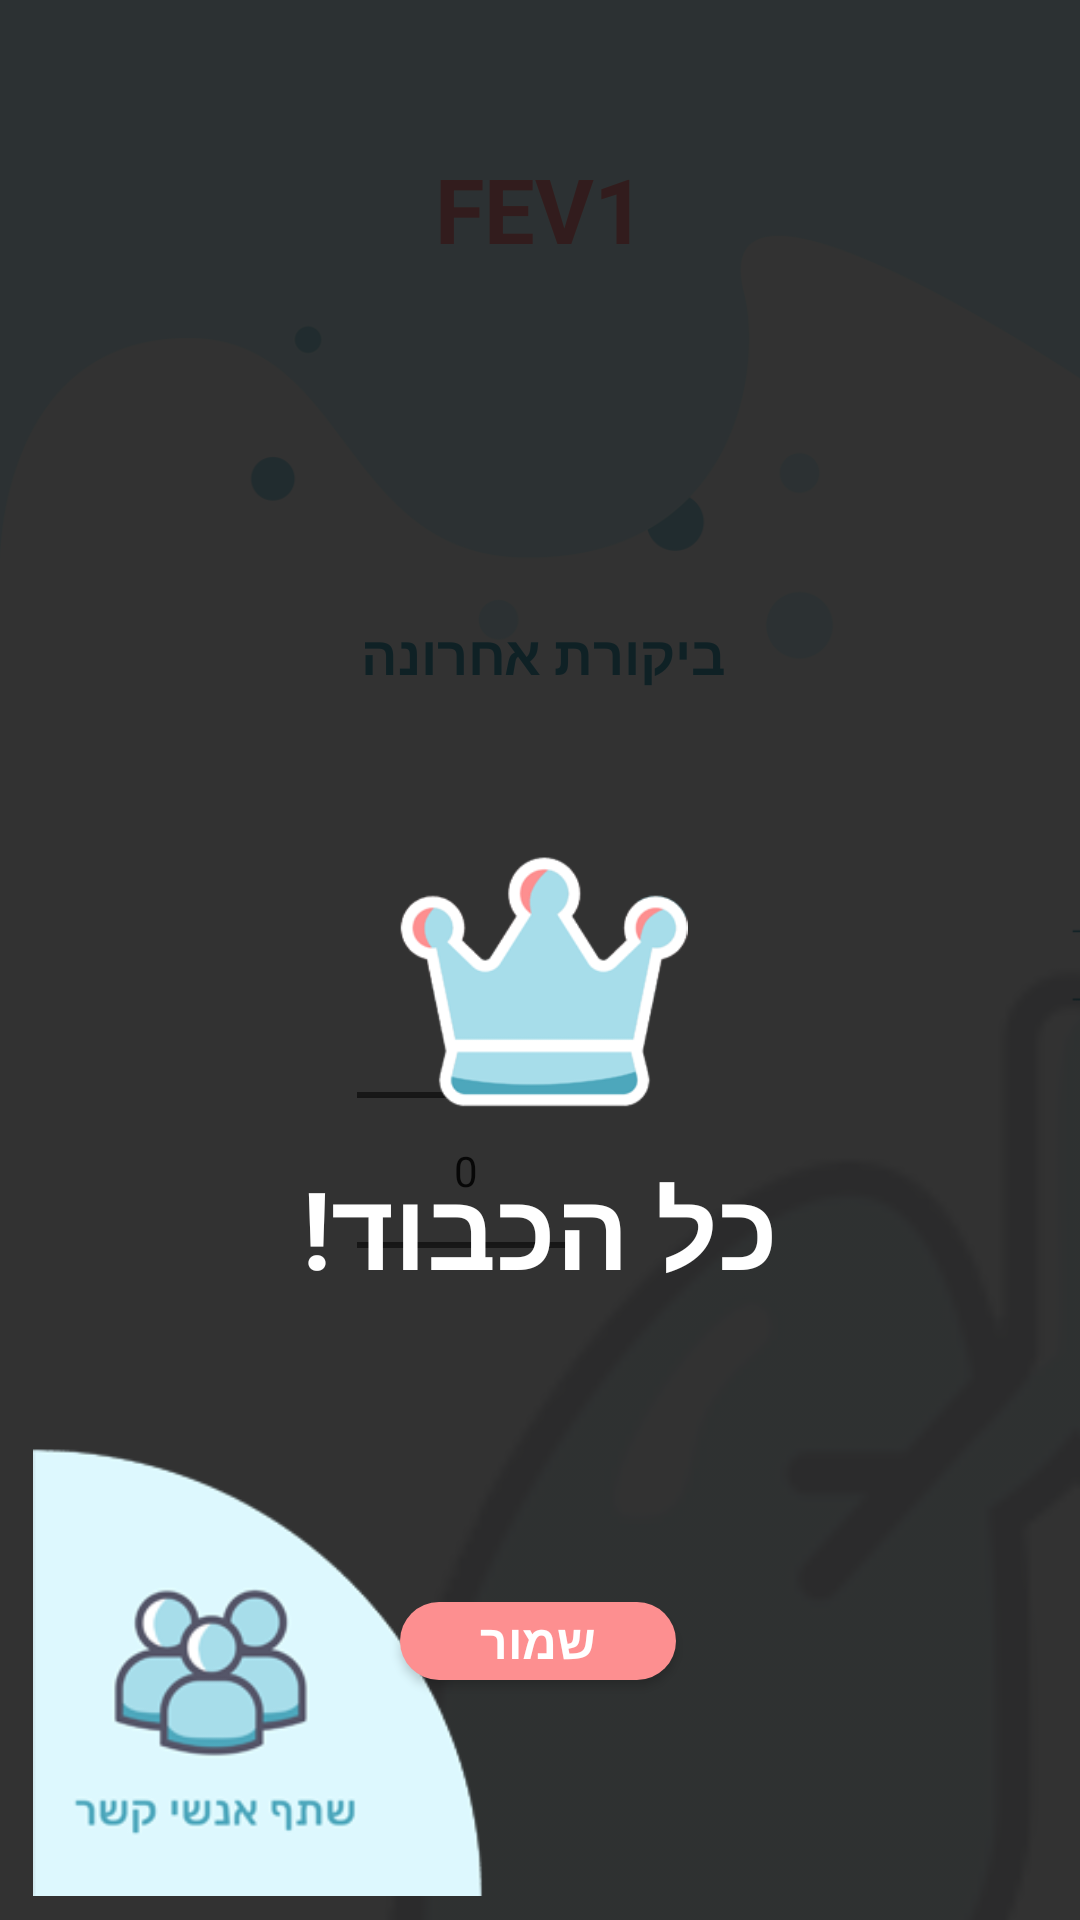

Screen size 1080×1920. Icon name, then its box in pixels as (x1,y1,x2,y2):
crown: (359,857,688,1107)
